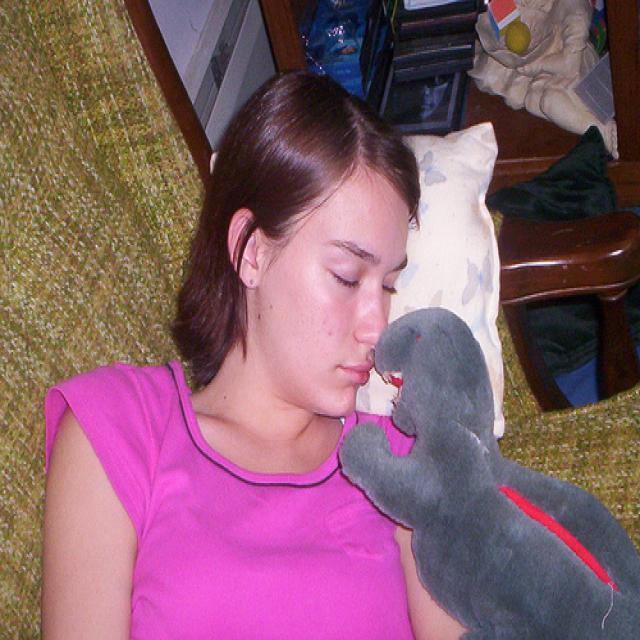person: (41, 67, 472, 639)
sofa: (1, 1, 639, 639)
